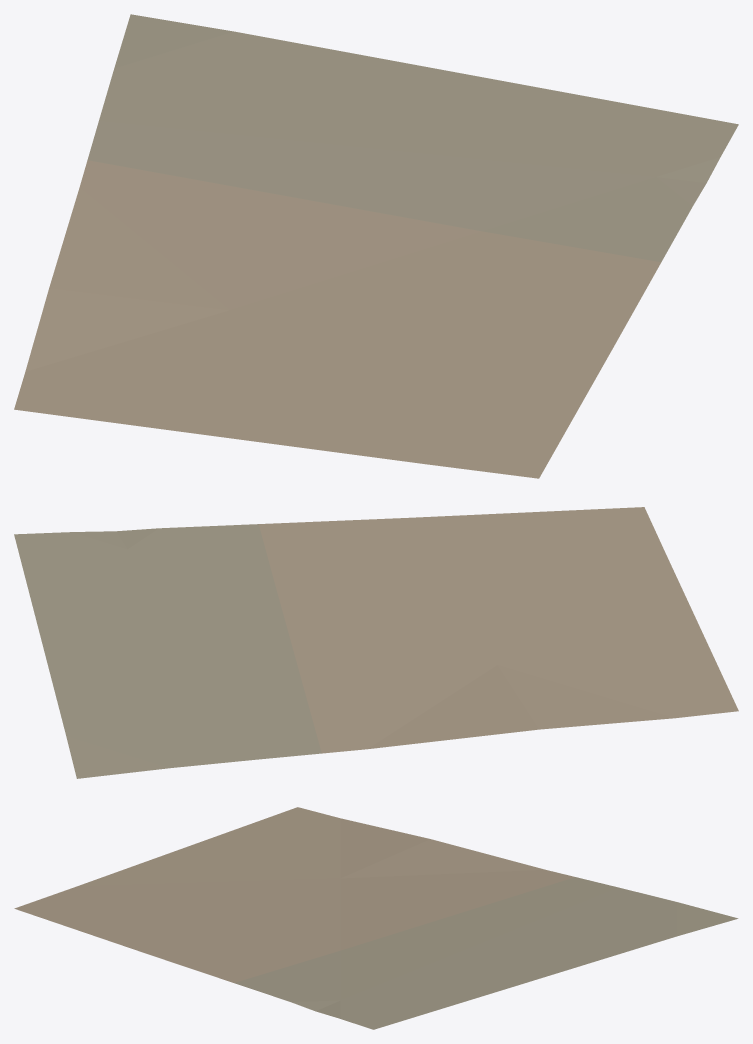
Rendered from farm_-5_1_soil.glb.
3 renders of one model, top to bottom at view 1: azimuth 30°, elevation 25°; view 2: azimuth 150°, elevation 25°; view 3: azimuth 270°, elevation 25°, orthographic. The views are drawn at different scales.
Visible parts, largest first — view 1: geometry_0; view 2: geometry_0; view 3: geometry_0.
Part boxes in pixels (x1,y1,x2,y2): geometry_0: (14, 14, 738, 478); geometry_0: (14, 507, 738, 778); geometry_0: (14, 807, 738, 1029).
Size of the model in its own units: 146 by 9.71 by 173.
